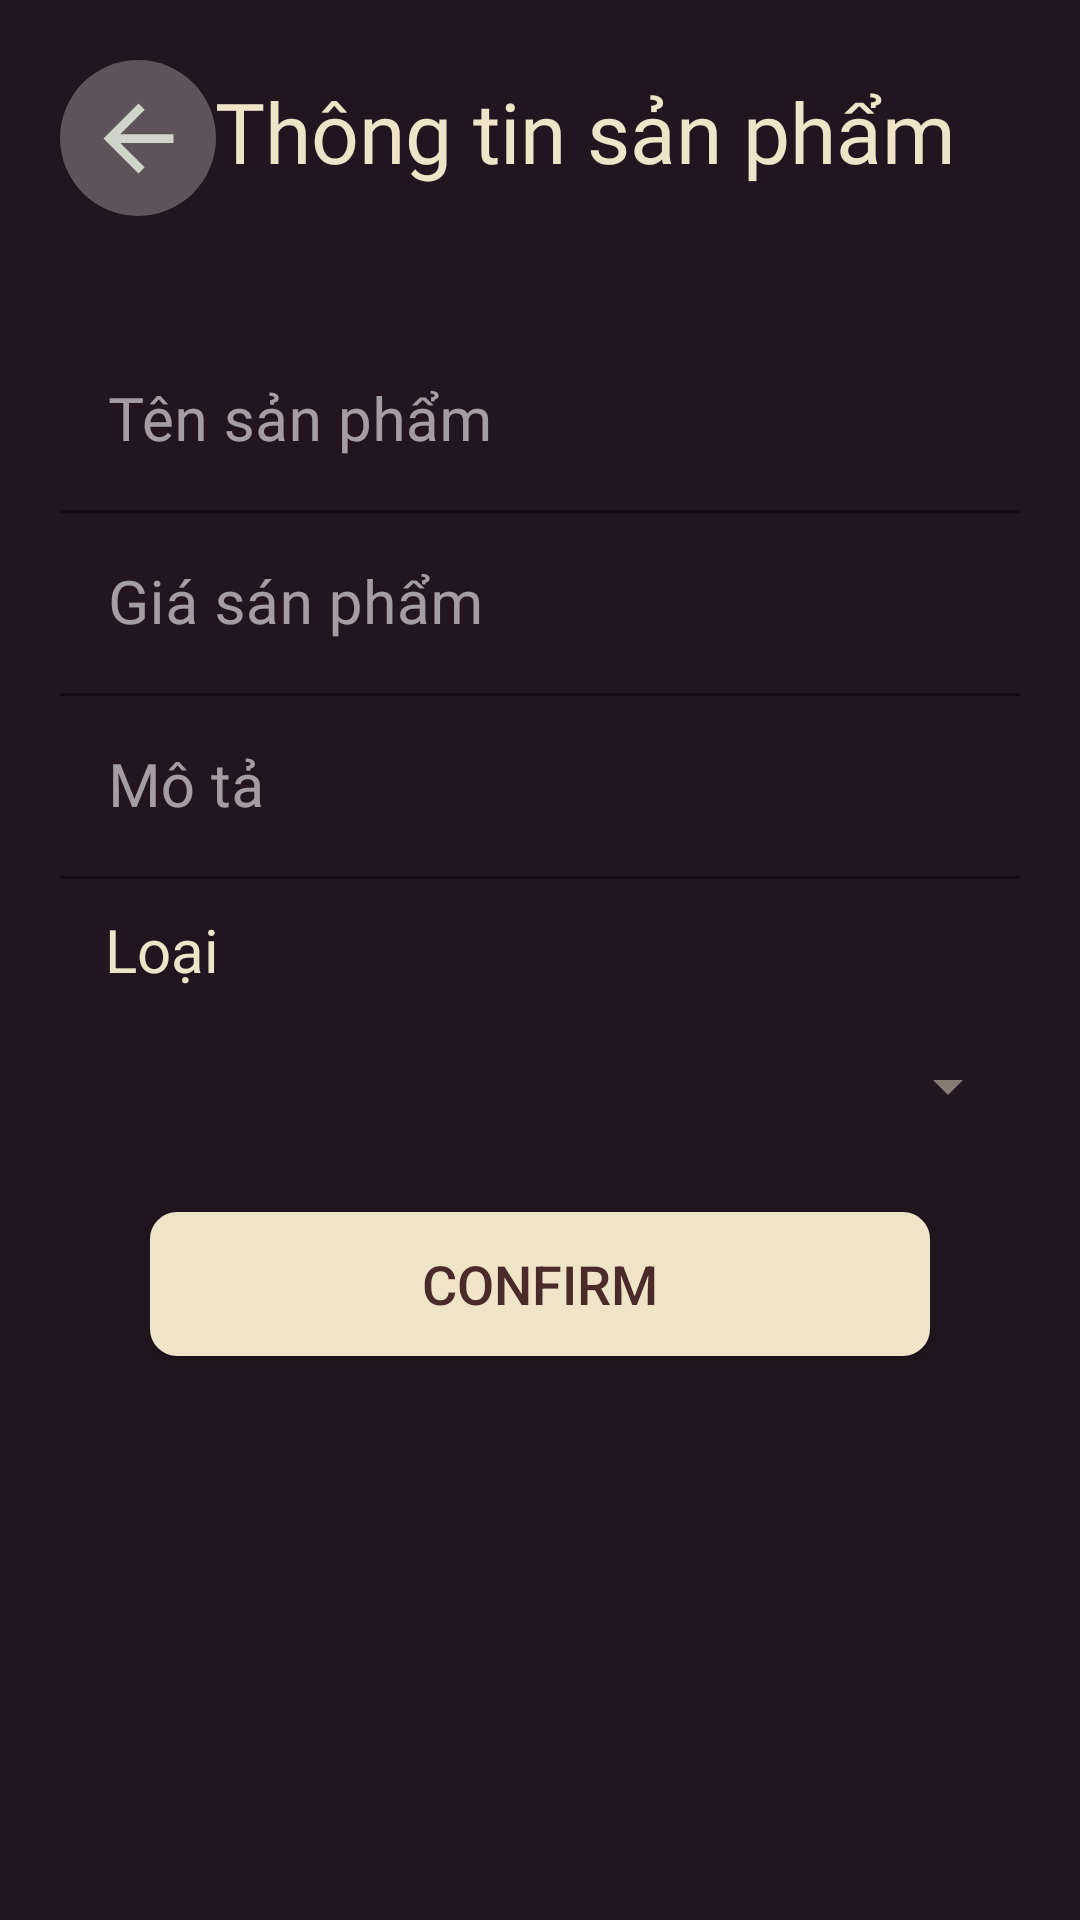

Named icons in this screenshot (1080x1920) and their bounding boxes, Rect(x1, y1, x2, y2):
back: Rect(60, 60, 216, 216)
